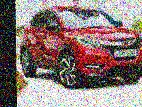car: (19, 3, 142, 95)
